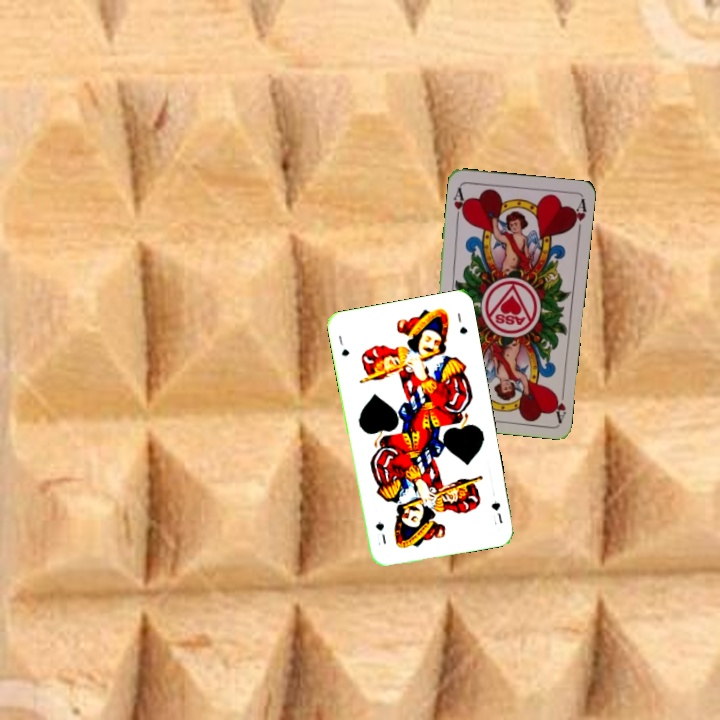GU: (487, 497, 505, 528), (334, 331, 352, 359)
HA: (450, 183, 469, 223), (549, 383, 568, 423)
